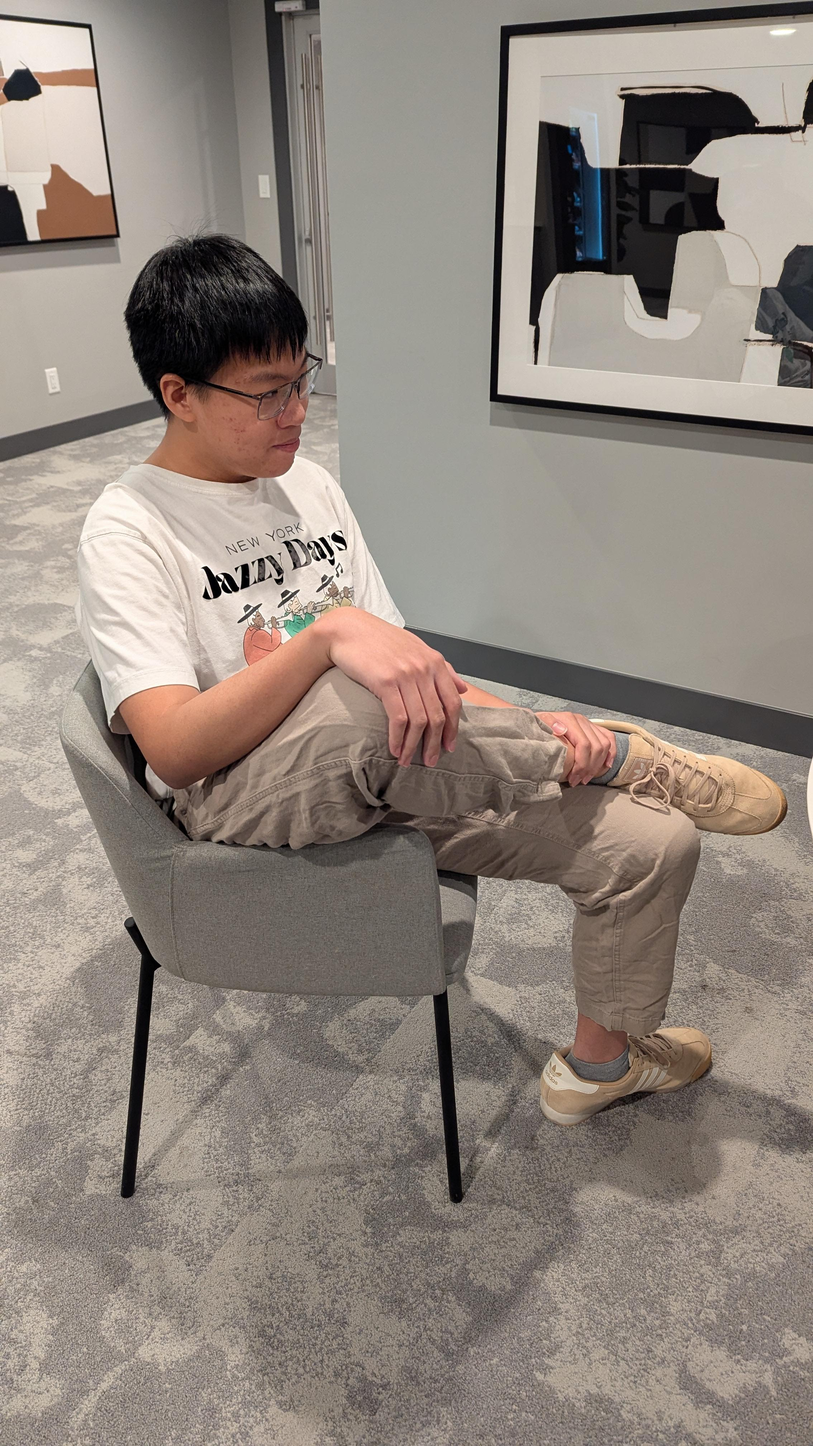BadPosture: (75, 233, 787, 1122)
